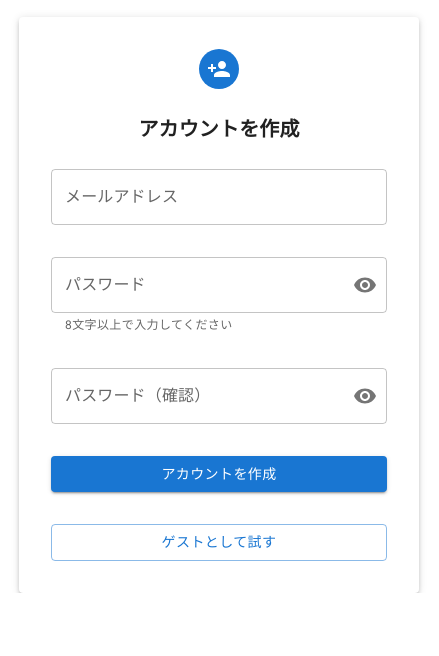
Test: AuthForm 異常系 › 何も入力せずCreate accountを押すと全フィールドの必須エラーが表示され、authApi.signupは呼ばれないこと
Step 1. Click the button "アカウントを作成" → (219, 474), box [51, 456, 387, 492]
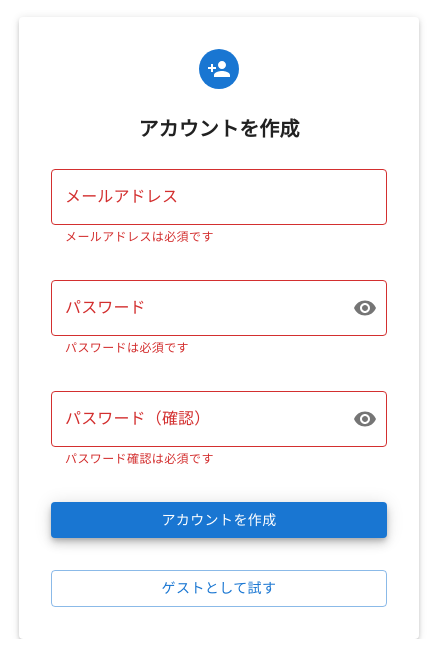
Check: the text "メールアドレスは必須です" is shown, box [65, 230, 214, 244]
Check: the text "パスワードは必須です" is shown, box [65, 341, 189, 355]
Check: the text "パスワード確認は必須です" is shown, box [65, 452, 214, 466]
